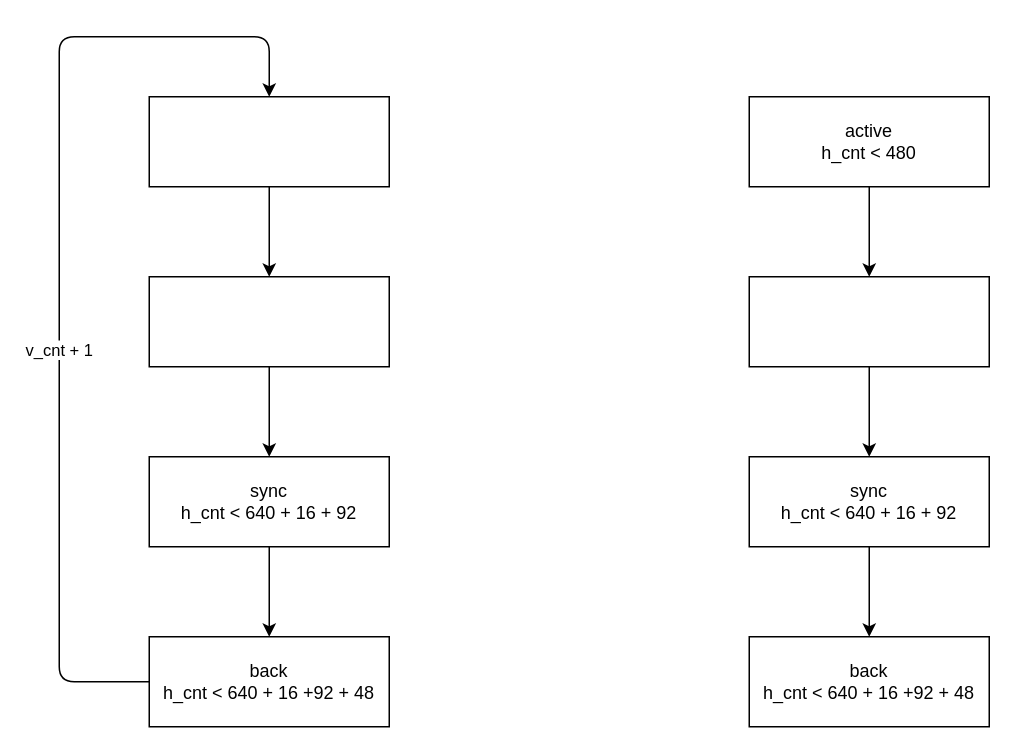
Image size: 1016x753. Some labels were removed from this diagram. The shapes that lost their labels are listed below. From the top down, each one's centre as x and y in pixels, then its label:
point (268, 141): active h_cnt < 640
point (268, 321): front h_cnt < 640 + 16
point (868, 321): front h_cnt < 480 + 10
